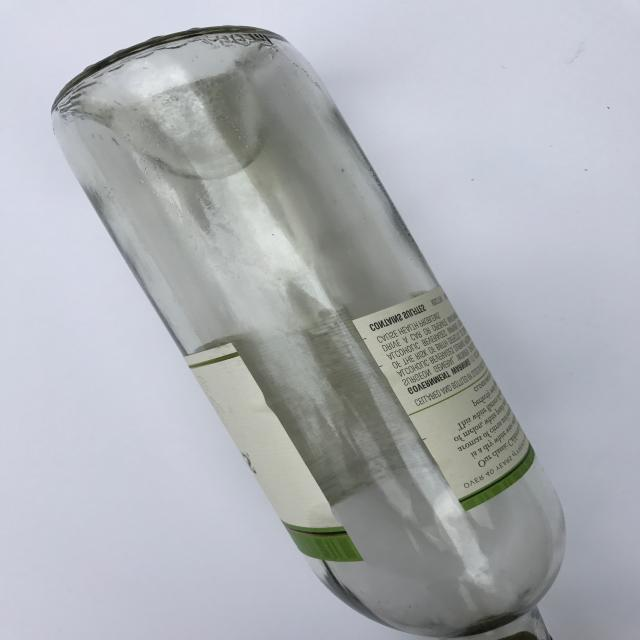glass: (54, 22, 552, 640)
